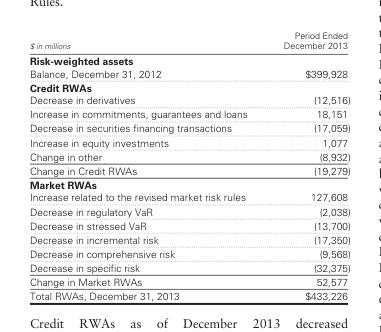table: (28, 29, 349, 301)
table column: (28, 29, 264, 301), (264, 29, 349, 301)
table column header: (28, 29, 349, 52)
table projected row header: (28, 52, 349, 66), (28, 80, 349, 93), (28, 177, 349, 190)
table row: (28, 29, 349, 52), (28, 148, 349, 163), (28, 231, 349, 246), (28, 52, 349, 66), (28, 66, 349, 80), (28, 106, 349, 120), (28, 120, 349, 134), (28, 134, 349, 148), (28, 163, 349, 177), (28, 203, 349, 217), (28, 217, 349, 231), (28, 246, 349, 260), (28, 260, 349, 274), (28, 274, 349, 288), (28, 80, 349, 93), (28, 93, 349, 106), (28, 177, 349, 190), (28, 190, 349, 203), (28, 288, 349, 301)
